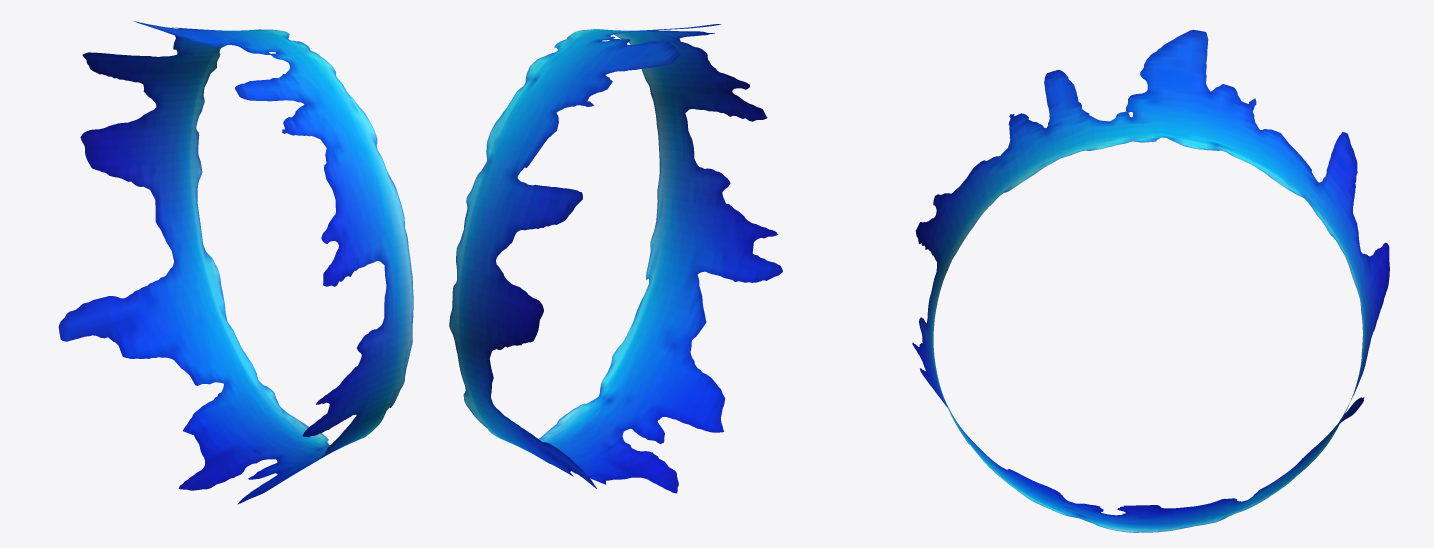
The model's file is Boost3.fbx.
The picture shows the model from 3 angles, left to right: view 1: azimuth 30°, elevation 25°; view 2: azimuth 150°, elevation 25°; view 3: azimuth 270°, elevation 25°; orthographic projection.
Visible parts, largest first — view 1: Boost3; view 2: Boost3; view 3: Boost3.
Part boxes in pixels (x1=…): Boost3: x1=58, y1=21, x2=413, y2=504; Boost3: x1=449, y1=24, x2=782, y2=493; Boost3: x1=912, y1=29, x2=1389, y2=532.
Size of the model in its own units: 103 by 288 by 290.
